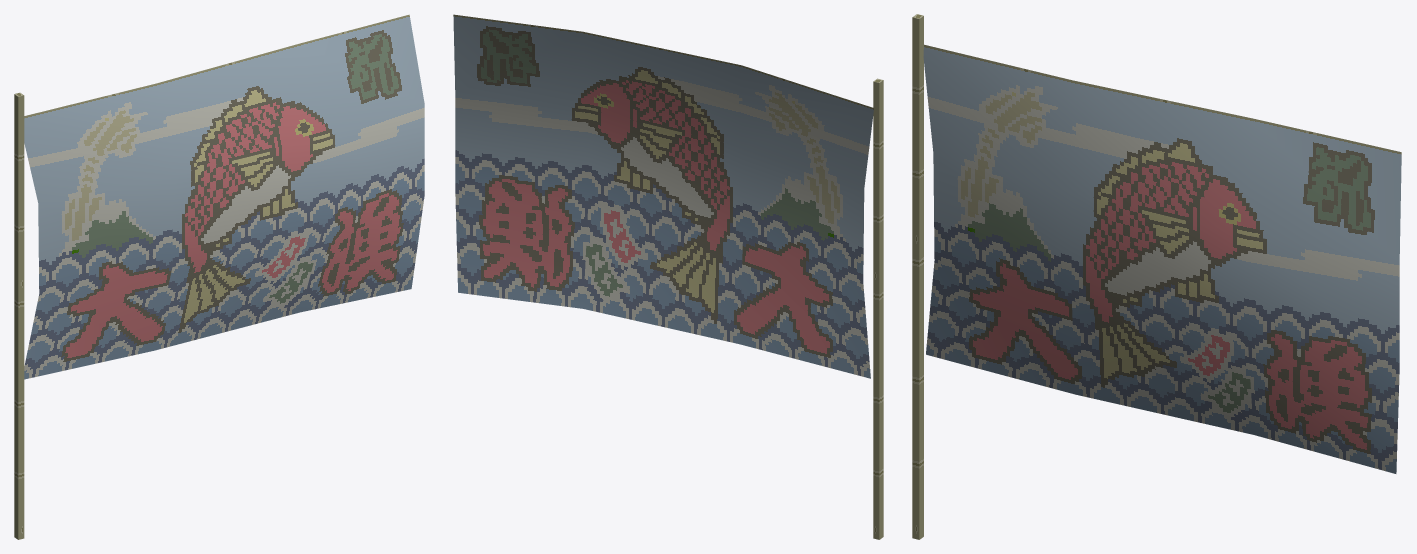
The model's file is 0391_Rich_Haul_Flag_2.glb.
The picture shows the model from 3 angles, left to right: view 1: azimuth 30°, elevation 25°; view 2: azimuth 150°, elevation 25°; view 3: azimuth 330°, elevation 25°; orthographic projection. The views are drawn at different scales.
Parts seen in each view (by area): view 1: part_0; view 2: part_0; view 3: part_0.
Part boxes in pixels (box(x1,y1,x2,y2)): part_0: box(14, 14, 424, 539); part_0: box(453, 14, 883, 539); part_0: box(912, 14, 1401, 539).
Size of the model in its own units: 5.41 by 5.58 by 0.5181.
Materials: 1 (1 with a texture image).
